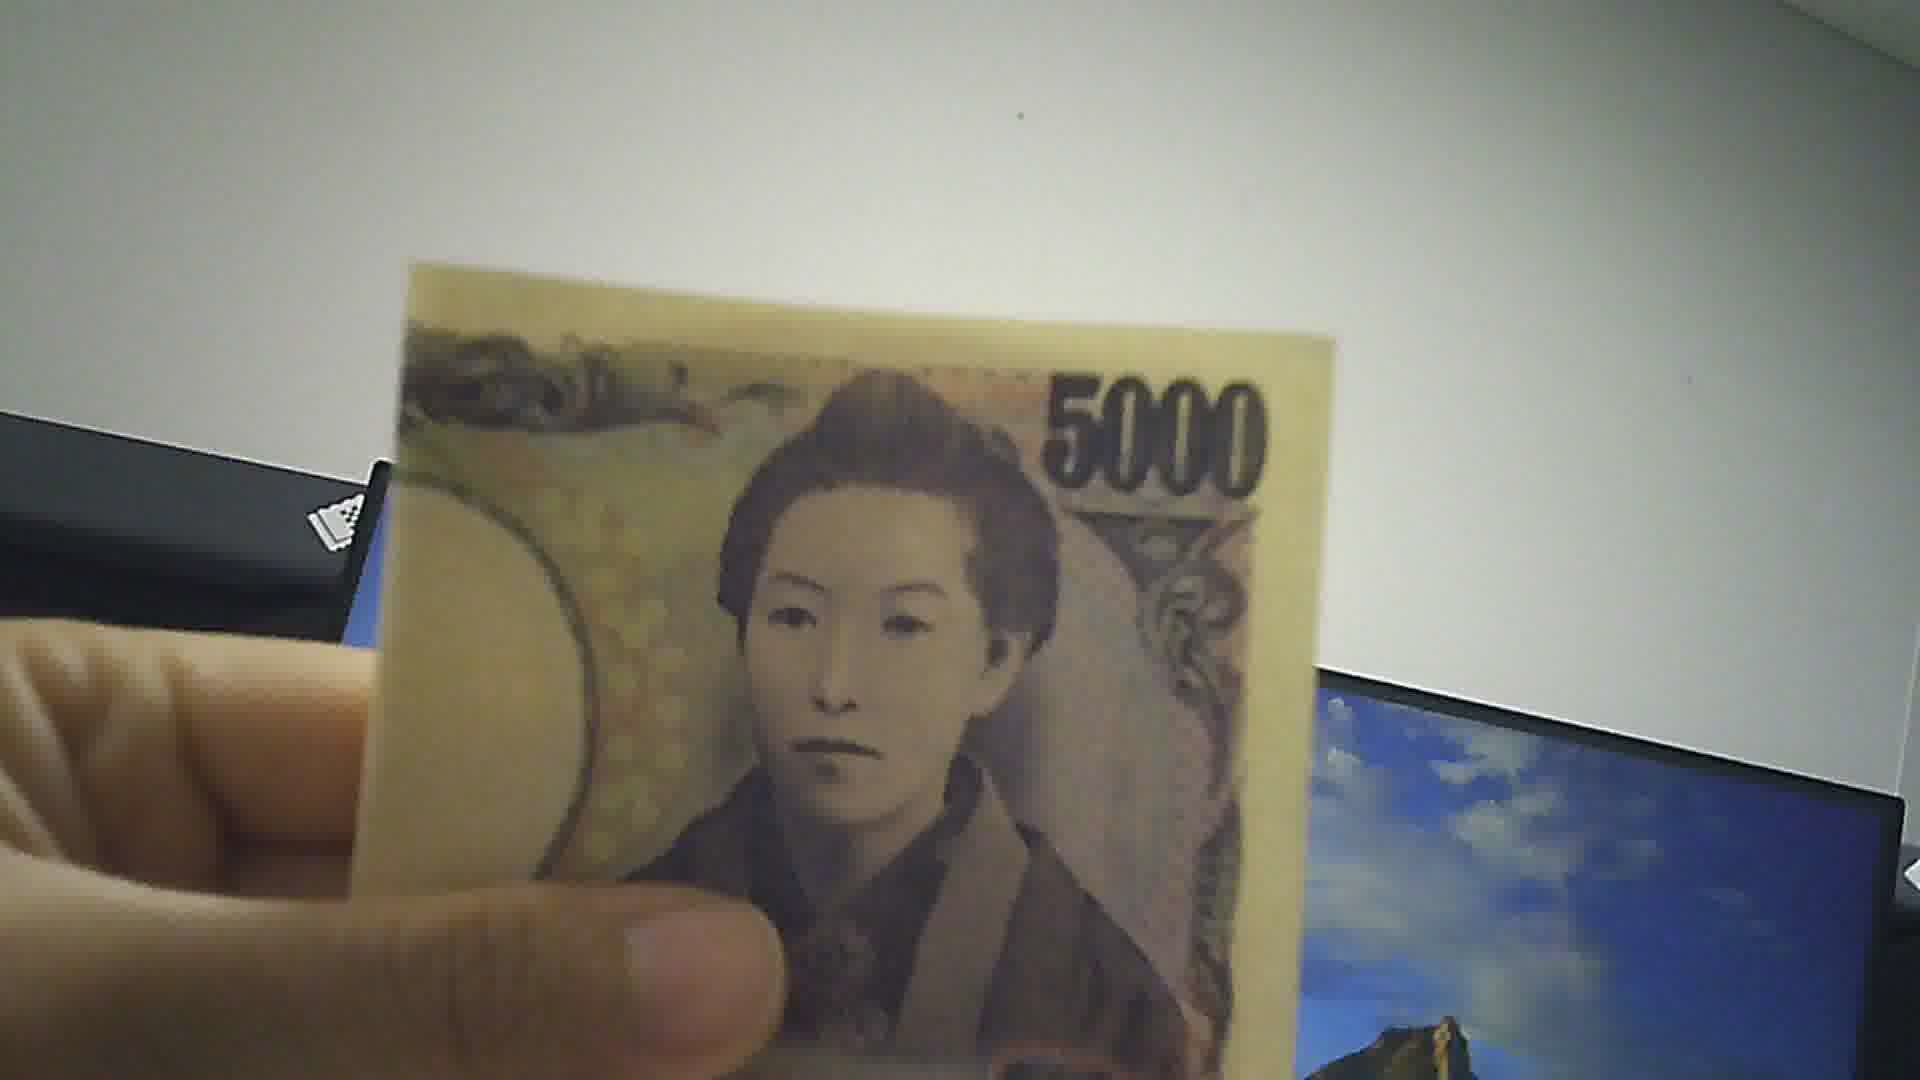5,000 Yen: (356, 262, 1309, 1073)
